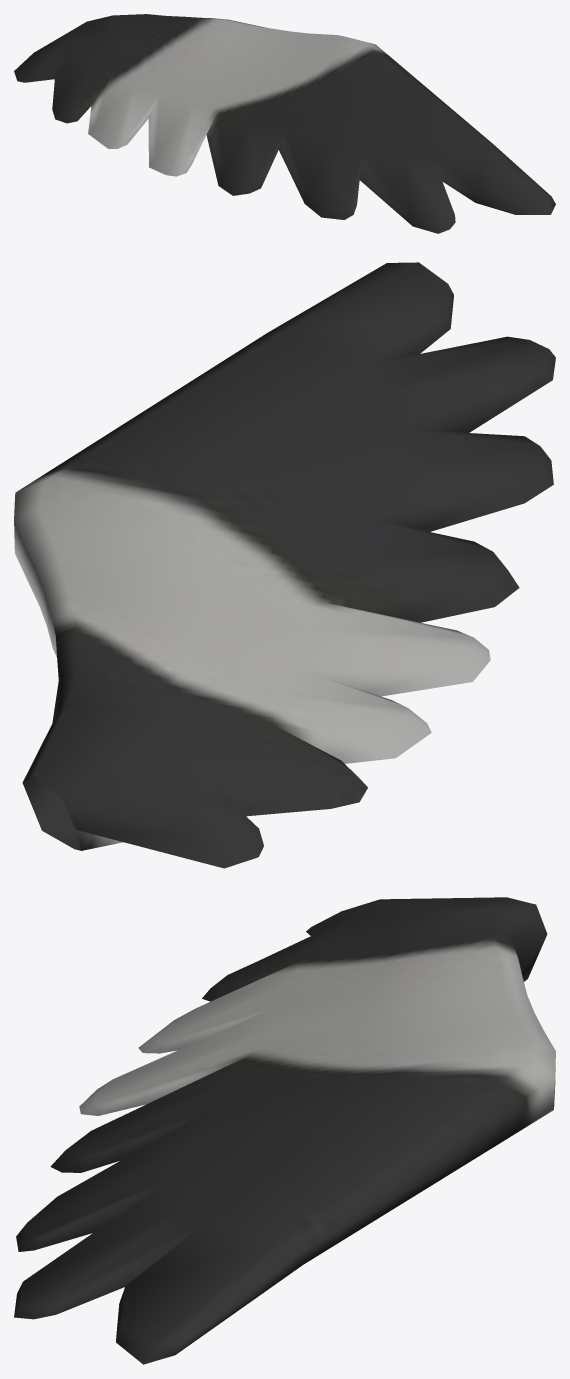
Rendered from pidove_ala_der_abierta.obj.
The picture shows the model from 3 angles, top to bottom: view 1: azimuth 30°, elevation 25°; view 2: azimuth 150°, elevation 25°; view 3: azimuth 330°, elevation 25°; orthographic projection. The views are drawn at different scales.
Visible parts, largest first — view 1: ala_der_abierta; view 2: ala_der_abierta; view 3: ala_der_abierta.
Part boxes in pixels (x1,y1,x2,y2): ala_der_abierta: [14, 14, 555, 233]; ala_der_abierta: [14, 262, 555, 868]; ala_der_abierta: [14, 897, 555, 1364].
Size of the model in its own units: 6.26 by 1.78 by 14.17.
Materials: 1 (1 with a texture image).
